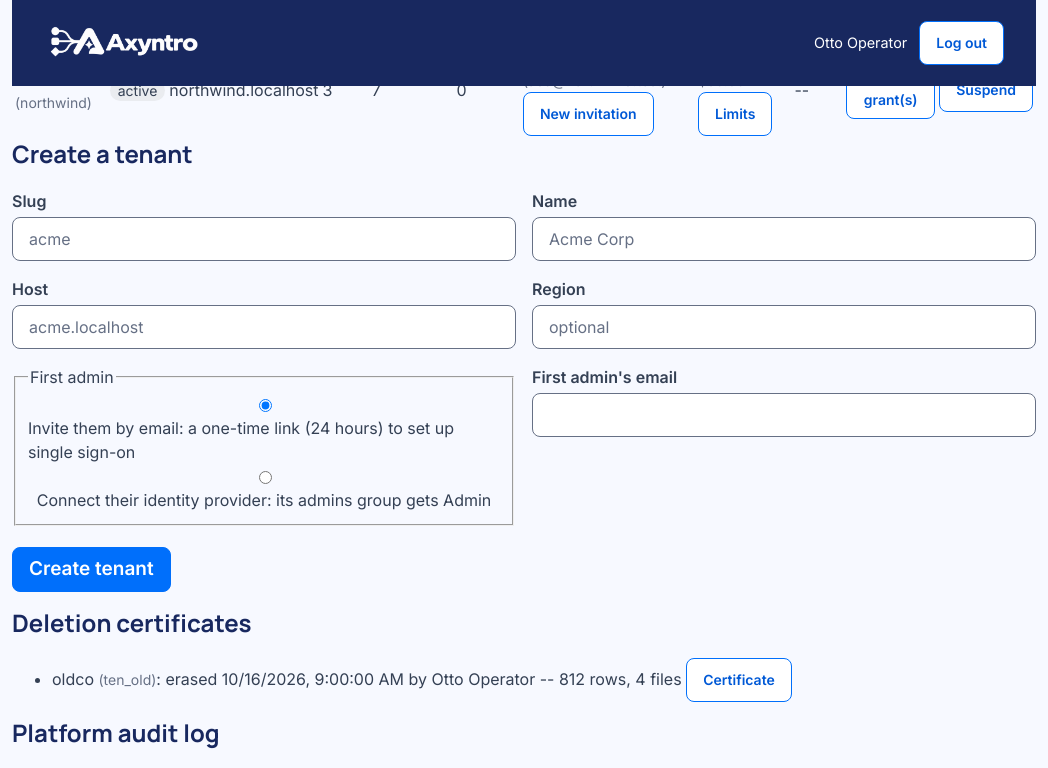
Test: Operator console (Epic 38, US38.8) › lists deletion certificates, with the full certificate on request
(page scrolled)
Expected: the element "Deletion certificates" shows "oldco", [52,669,94,689]
Expected: the element "Deletion certificates" shows "812 rows, 4 files", [12,606,792,702]
Click the button "Certificate". click: [739, 680]
box: [686,658,792,702]
(page scrolled)
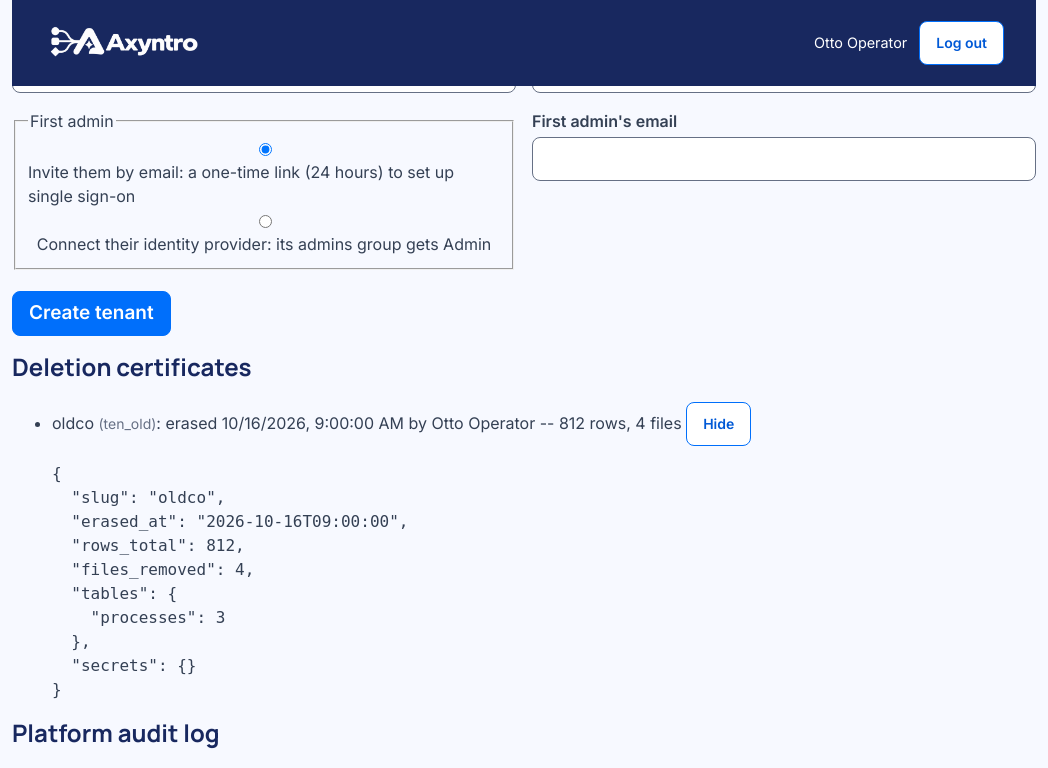
Expected: the element "Deletion certificates" shows "\"processes\": 3", [52,464,408,699]
